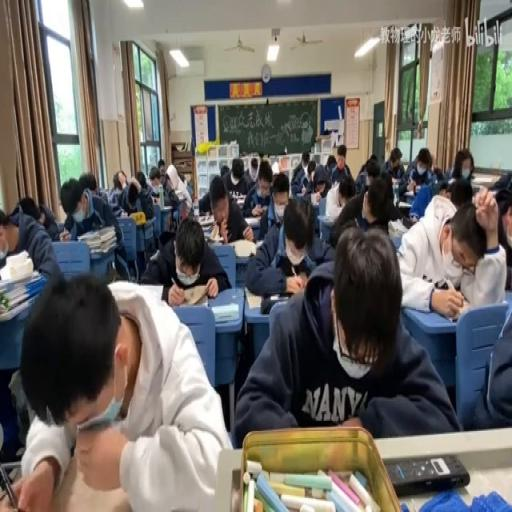calculator: (245, 284, 286, 310), (128, 282, 164, 300), (210, 301, 238, 323), (77, 225, 115, 240), (230, 238, 258, 256), (173, 294, 208, 308), (194, 213, 214, 235), (90, 244, 115, 258), (228, 194, 246, 206), (244, 215, 261, 226), (203, 232, 219, 243), (174, 189, 188, 201), (402, 188, 416, 200), (58, 227, 70, 239), (254, 240, 264, 250), (310, 196, 319, 206), (151, 195, 160, 205), (117, 209, 126, 218), (159, 204, 172, 210), (390, 178, 398, 186)
paper: (3, 270, 227, 509), (235, 224, 456, 444), (397, 184, 504, 314), (139, 212, 226, 299), (464, 279, 510, 431), (62, 175, 128, 279), (2, 199, 62, 285), (271, 183, 329, 269), (118, 172, 154, 245), (147, 165, 179, 228), (329, 193, 363, 246), (403, 145, 436, 195), (221, 157, 253, 199), (305, 161, 334, 203), (442, 150, 474, 186), (355, 154, 382, 194), (381, 147, 406, 189), (447, 179, 473, 209), (488, 172, 511, 202), (387, 192, 408, 223), (108, 171, 128, 203), (292, 151, 310, 186), (78, 171, 98, 199), (271, 174, 289, 200), (257, 160, 273, 188), (136, 170, 149, 194), (339, 184, 352, 206), (98, 186, 112, 204), (128, 183, 138, 205), (157, 158, 166, 180), (432, 164, 444, 180), (248, 160, 258, 178), (0, 210, 10, 228), (336, 145, 346, 162), (326, 154, 336, 170), (438, 186, 450, 199), (219, 162, 229, 175), (272, 158, 278, 173), (308, 165, 314, 179), (164, 179, 170, 192), (370, 152, 378, 161)
person: (386, 452, 470, 495), (402, 214, 418, 228)
